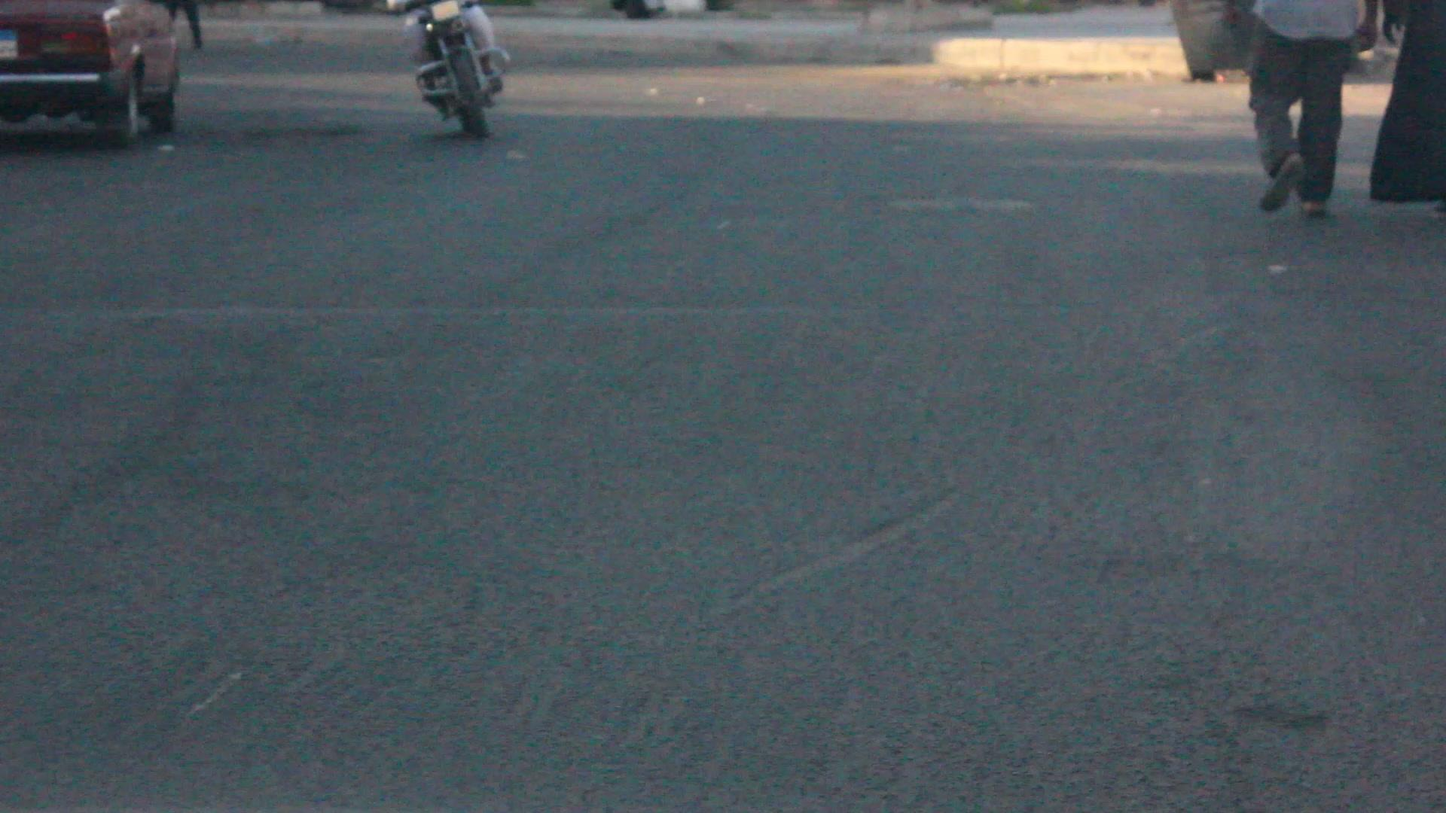Bump: (0, 305, 1446, 531)
